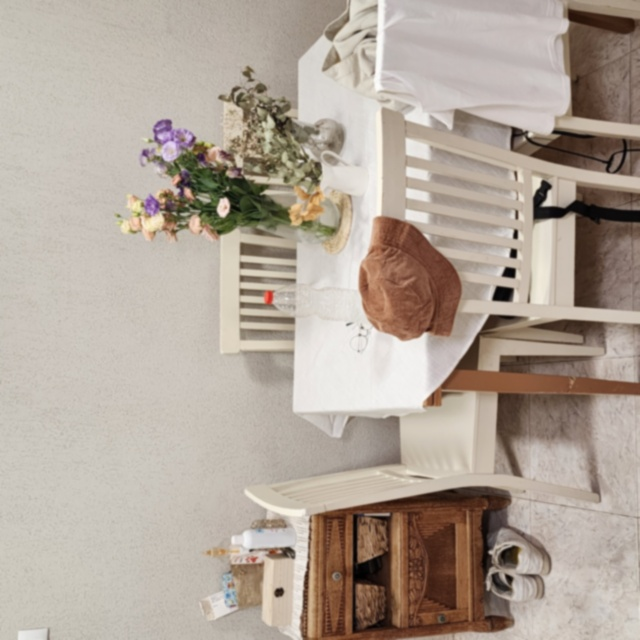glasses: (343, 316, 372, 357)
